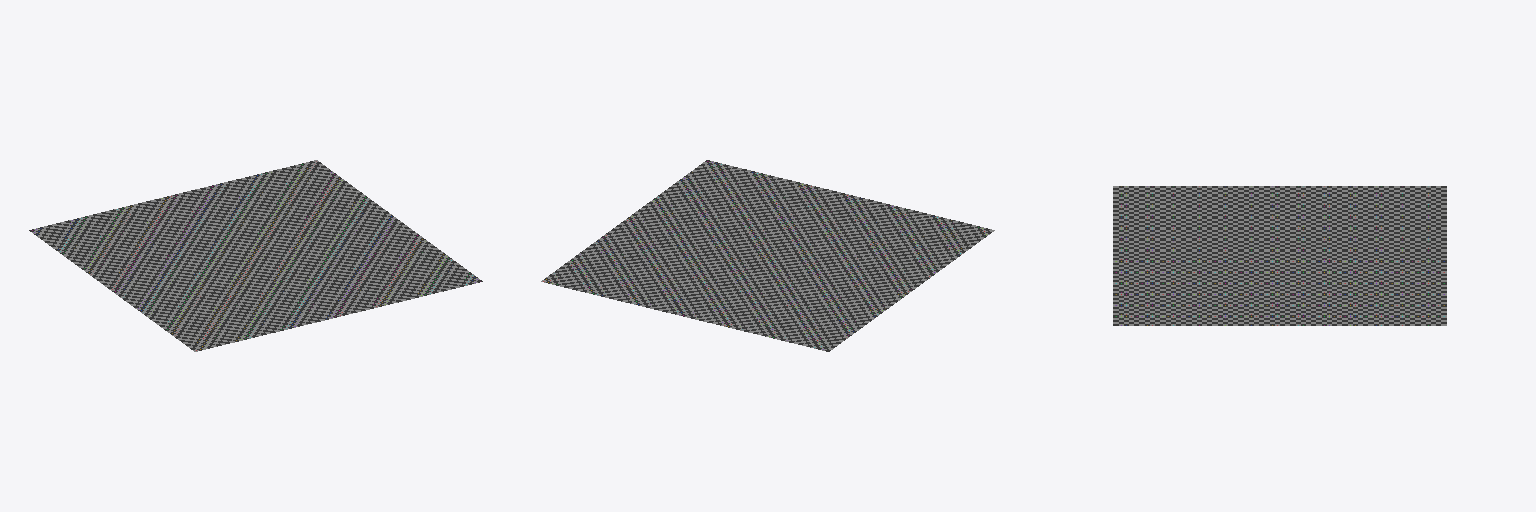
3 views of the same model, side by side, from view 1: azimuth 30°, elevation 25°; view 2: azimuth 150°, elevation 25°; view 3: azimuth 270°, elevation 25° (orthographic).
Parts seen in each view (by area): view 1: Plane; view 2: Plane; view 3: Plane.
Boxes of the visible parts, x1=… form: Plane: x1=29, y1=160, x2=482, y2=351; Plane: x1=541, y1=160, x2=994, y2=351; Plane: x1=1113, y1=186, x2=1446, y2=325.
Size of the model in its own units: 7.54 by 0 by 7.54.
1 materials, 1 textured.